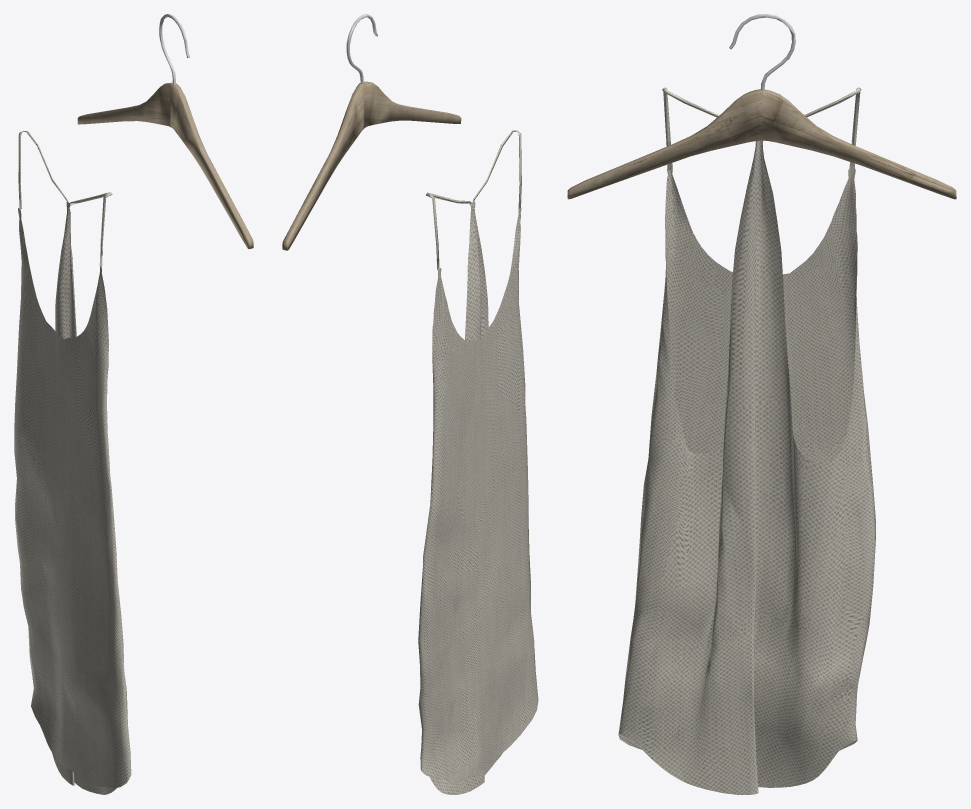
Rendered from rod-blouse_black002.glb.
3 renders of one model, left to right at view 1: azimuth 30°, elevation 25°; view 2: azimuth 150°, elevation 25°; view 3: azimuth 270°, elevation 25°, orthographic. The views are drawn at different scales.
Parts seen in each view (by area): view 1: blouse_black002.001, Hangers_for_clothes086.001; view 2: blouse_black002.001, Hangers_for_clothes086.001; view 3: blouse_black002.001, Hangers_for_clothes086.001.
Boxes of the visible parts, x1,y1,x2,y2 form: blouse_black002.001: [14, 130, 131, 794]; Hangers_for_clothes086.001: [77, 14, 253, 248]; blouse_black002.001: [418, 130, 538, 794]; Hangers_for_clothes086.001: [282, 14, 461, 250]; blouse_black002.001: [618, 87, 875, 794]; Hangers_for_clothes086.001: [567, 14, 956, 199].
Bounding box in the file's own units: 0.1769 × 1.04 × 0.4372.
Materials: 3 (2 with a texture image).
